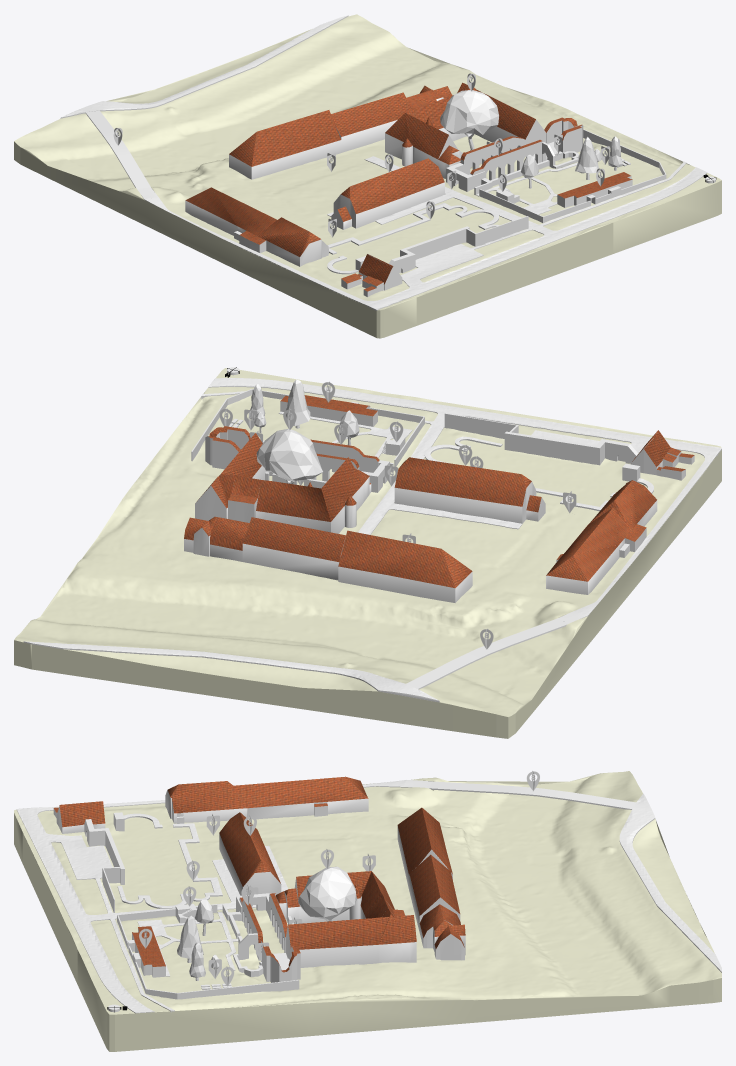
Rendered from model-experiment.glb.
3 views of the same model, one above another, from view 1: azimuth 30°, elevation 25°; view 2: azimuth 150°, elevation 25°; view 3: azimuth 270°, elevation 25° (orthographic). The views are drawn at different scales.
Parts seen in each view (by area): view 1: Punktkörper_12, Punktkörper_11, Gruppe_3, 3D_Fase, Punktkörper, 3D_Fase_3, Gruppe_5, Gruppe_4, Gruppe_13, Einfacher_Vollkörper, 3D_Fase_2, Gruppe_7 (+5 smaller); view 2: Punktkörper_12, Punktkörper_11, Gruppe_3, 3D_Fase, Gruppe_5, Punktkörper, Einfacher_Vollkörper, 3D_Fase_3, 3D_Fase_2, Gruppe_7, Gruppe_13, Punktkörper_3 (+2 smaller); view 3: Punktkörper_12, Punktkörper_11, Gruppe_3, Gruppe_5, Punktkörper, Einfacher_Vollkörper, Gruppe_4, Gruppe_13, Extrusionskörper_3, 3D_Fase, 3D_Fase_3, 3D_Fase_2 (+5 smaller).
Part boxes in pixels (left/top/right/bottom): Punktkörper_12: left=14, top=14, right=721, bottom=338; Punktkörper_11: left=185, top=82, right=632, bottom=296; Gruppe_3: left=327, top=156, right=707, bottom=310; 3D_Fase: left=388, top=216, right=528, bottom=273; Punktkörper: left=440, top=90, right=498, bottom=134; 3D_Fase_3: left=460, top=136, right=546, bottom=180; Gruppe_5: left=60, top=15, right=348, bottom=118; Gruppe_4: left=401, top=228, right=534, bottom=288; Gruppe_13: left=327, top=203, right=499, bottom=274; Einfacher_Vollkörper: left=85, top=110, right=150, bottom=188; 3D_Fase_2: left=544, top=117, right=583, bottom=152; Gruppe_7: left=144, top=197, right=378, bottom=305; Punktkörper_12: left=14, top=368, right=721, bottom=738; Punktkörper_11: left=184, top=395, right=694, bottom=602; Gruppe_3: left=201, top=378, right=721, bottom=534; 3D_Fase: left=444, top=413, right=638, bottom=465; Gruppe_5: left=23, top=641, right=439, bottom=702; Punktkörper: left=256, top=428, right=322, bottom=480; Einfacher_Vollkörper: left=406, top=619, right=568, bottom=689; 3D_Fase_3: left=269, top=439, right=379, bottom=481; 3D_Fase_2: left=205, top=426, right=250, bottom=469; Gruppe_7: left=575, top=452, right=716, bottom=615; Gruppe_13: left=424, top=436, right=653, bottom=511; Punktkörper_3: left=286, top=379, right=310, bottom=425; Punktkörper_12: left=14, top=771, right=721, bottom=1051; Punktkörper_11: left=53, top=776, right=465, bottom=977; Gruppe_3: left=16, top=807, right=287, bottom=1013; Gruppe_5: left=619, top=793, right=721, bottom=972; Punktkörper: left=298, top=866, right=356, bottom=920; Einfacher_Vollkörper: left=429, top=781, right=636, bottom=809; Gruppe_4: left=46, top=833, right=113, bottom=913; Gruppe_13: left=117, top=813, right=222, bottom=908; Extrusionskörper_3: left=135, top=962, right=299, bottom=999; 3D_Fase: left=84, top=819, right=124, bottom=912; 3D_Fase_3: left=239, top=893, right=287, bottom=960; 3D_Fase_2: left=262, top=946, right=300, bottom=982.
Bounding box in the file's own units: 213 × 45.3 × 245.
Materials: 18 (15 with a texture image).
